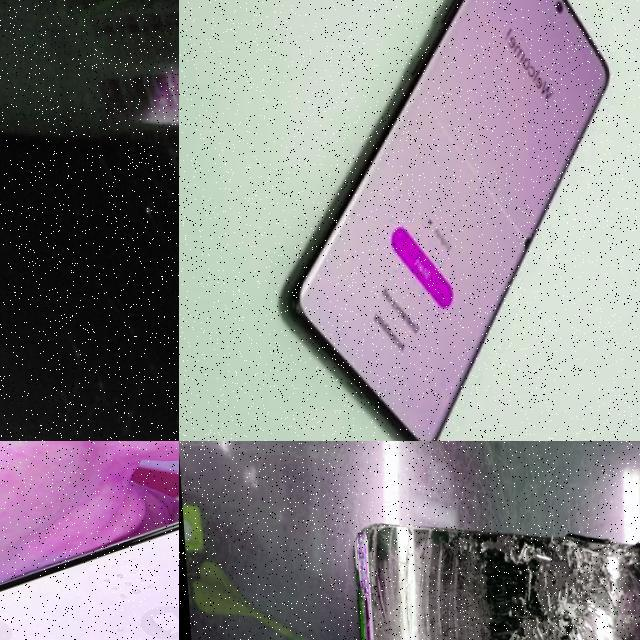dead pixel: (509, 223, 537, 275)
screen crack: (345, 512, 640, 640), (163, 120, 179, 243)
